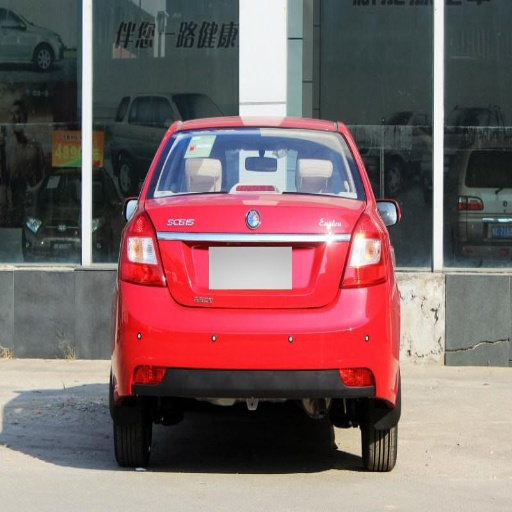back_bumper: (116, 266, 397, 403)
tailgate: (145, 194, 362, 309)
trunk: (148, 193, 338, 242)
